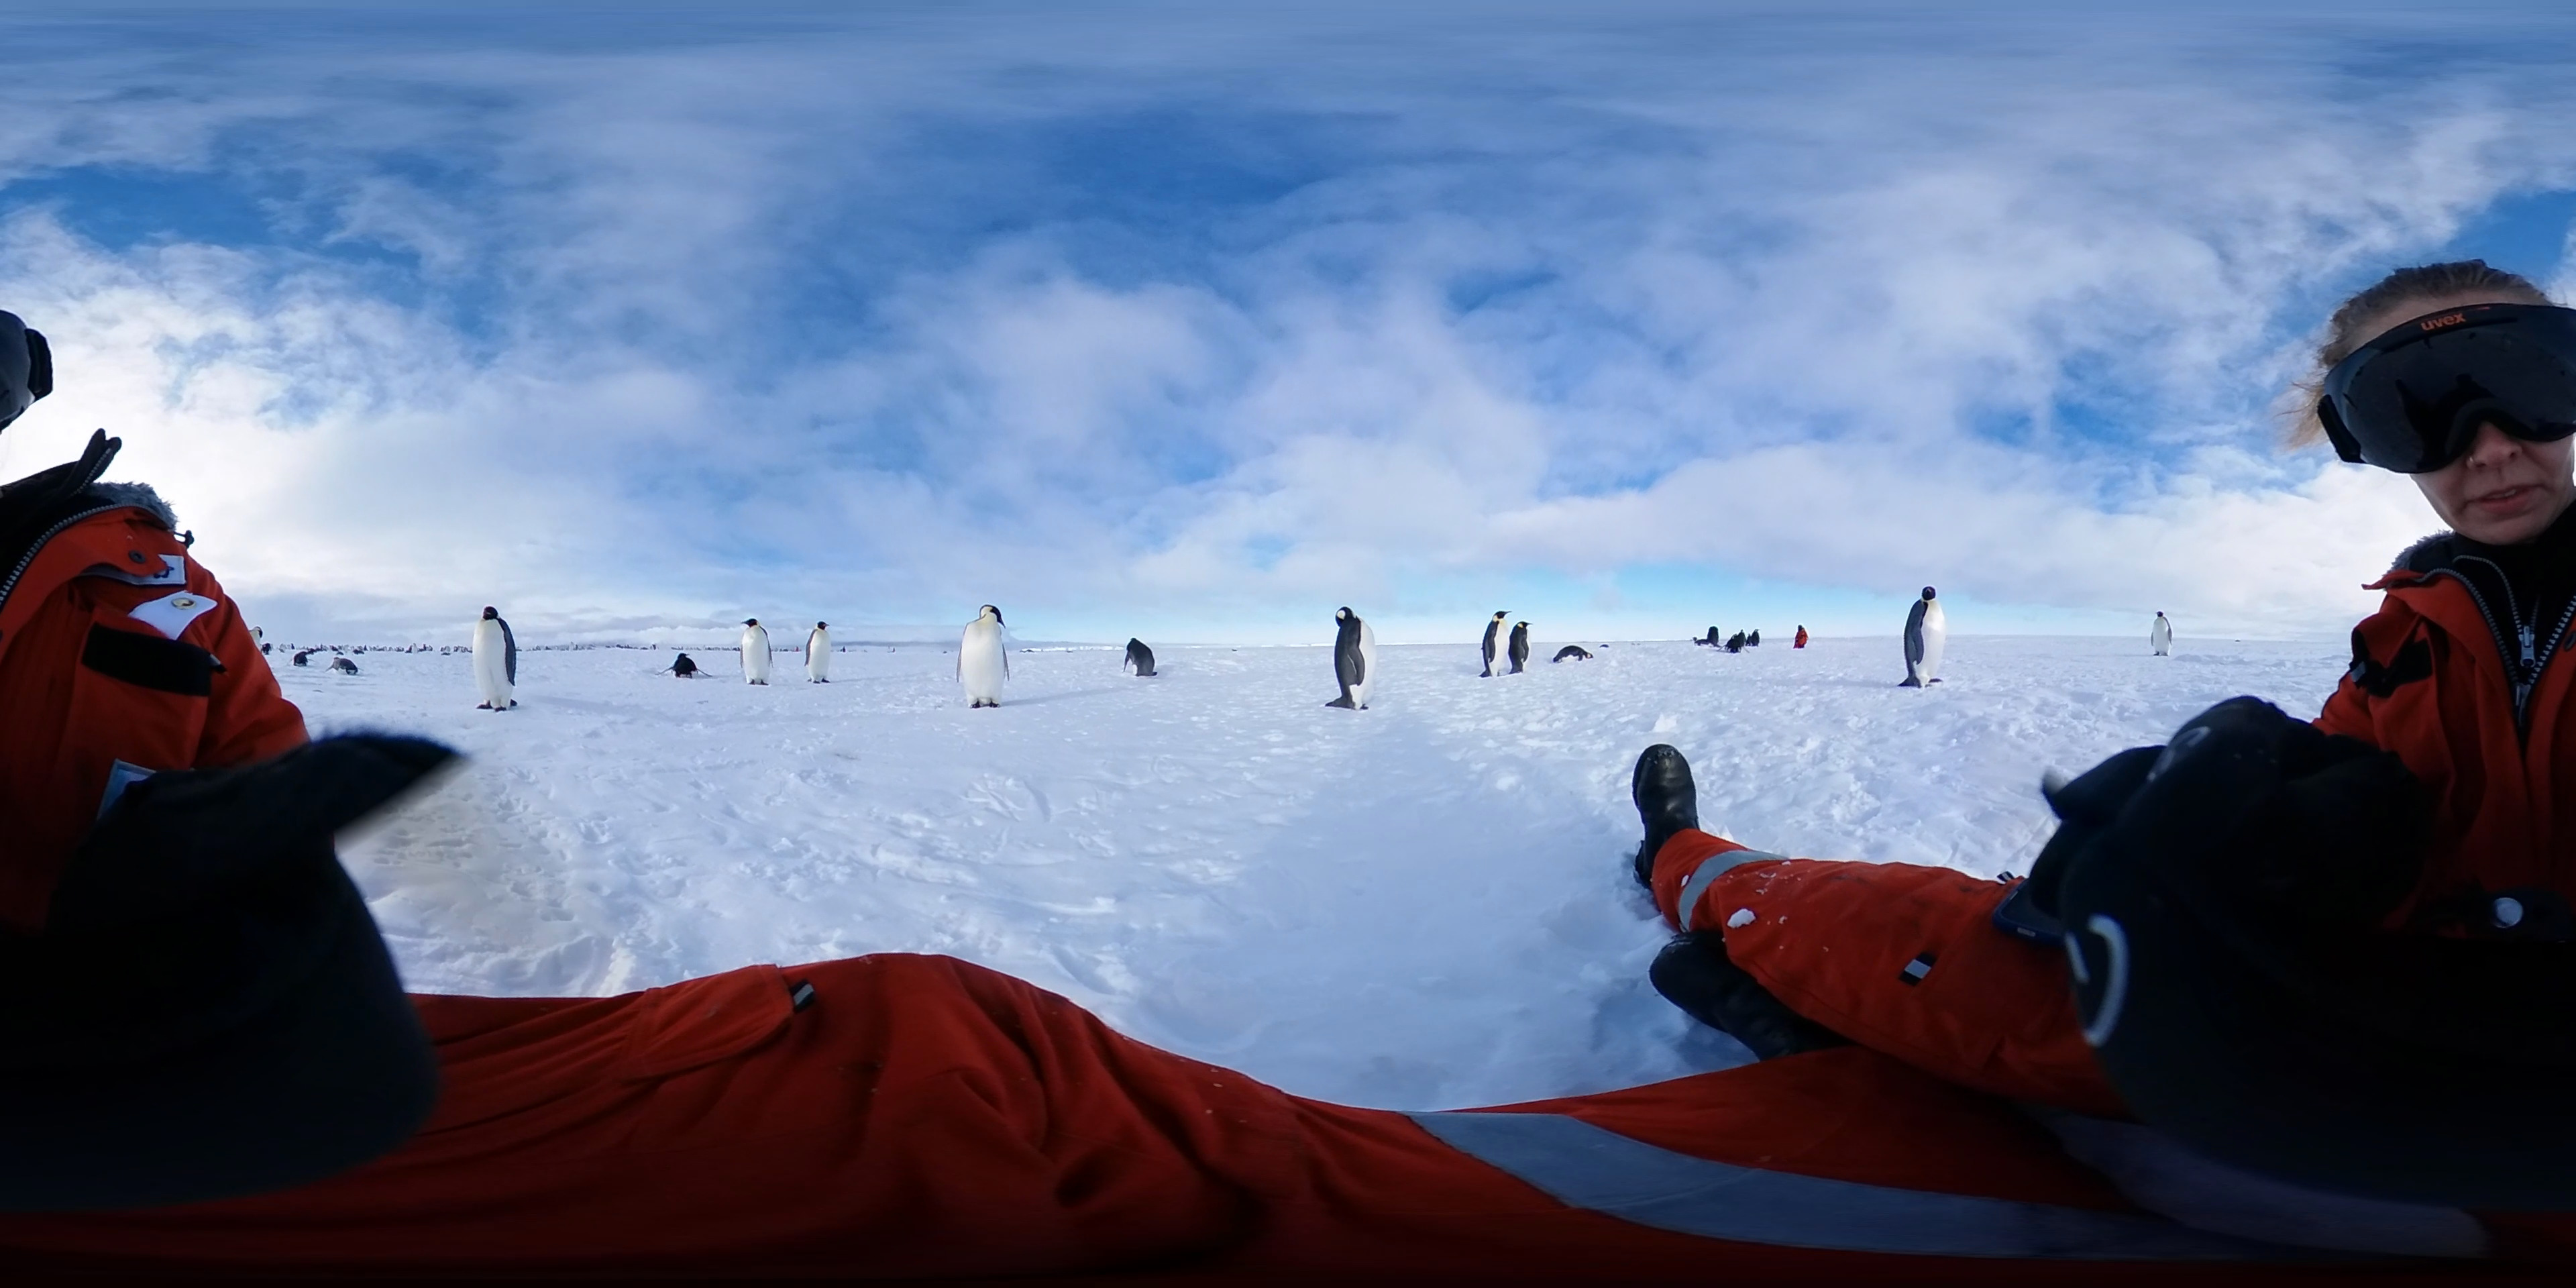adult_standing_penguin: (958, 601, 1012, 713), (470, 605, 522, 720), (1894, 585, 1952, 687), (1324, 605, 1377, 710), (736, 616, 775, 688), (1480, 609, 1511, 680), (802, 619, 835, 685), (1115, 634, 1160, 678), (2147, 608, 2177, 660), (1508, 618, 1533, 677), (1705, 624, 1720, 647)
adult_toboggan_penguin: (659, 652, 711, 683), (1551, 644, 1597, 664), (327, 655, 361, 674), (1687, 634, 1718, 649), (291, 651, 309, 670)
researcher: (1628, 220, 2576, 1249), (0, 297, 401, 1275), (1789, 623, 1812, 649)
